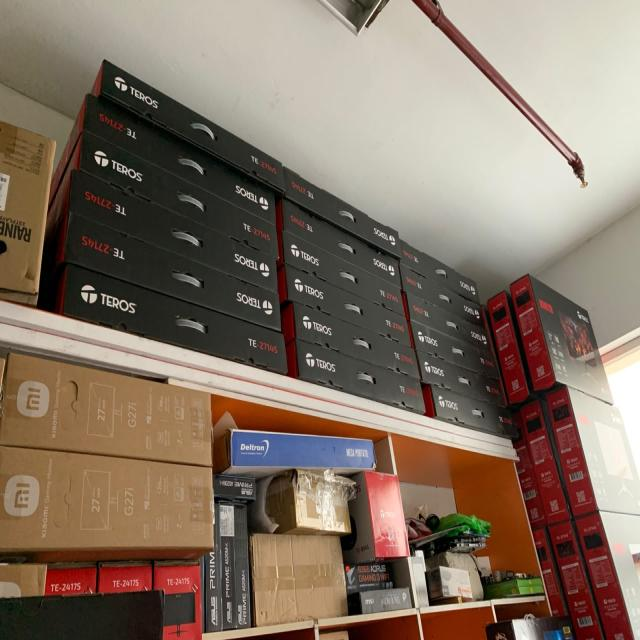caja-monitor: (58, 213, 280, 332), (74, 131, 277, 260), (54, 264, 287, 373), (92, 61, 284, 193), (68, 171, 277, 291), (78, 100, 274, 224), (0, 447, 212, 561), (0, 353, 212, 466), (510, 275, 612, 403), (546, 388, 640, 515), (284, 167, 400, 258), (282, 302, 419, 379), (279, 266, 410, 345), (288, 339, 424, 413), (282, 200, 400, 285), (282, 233, 401, 312), (576, 513, 640, 639), (550, 521, 602, 639), (520, 402, 568, 525), (423, 385, 518, 440), (400, 264, 483, 325), (411, 322, 499, 379), (400, 240, 479, 303), (404, 293, 490, 349), (419, 353, 506, 407), (488, 291, 529, 403), (533, 527, 568, 614), (516, 439, 545, 526)
